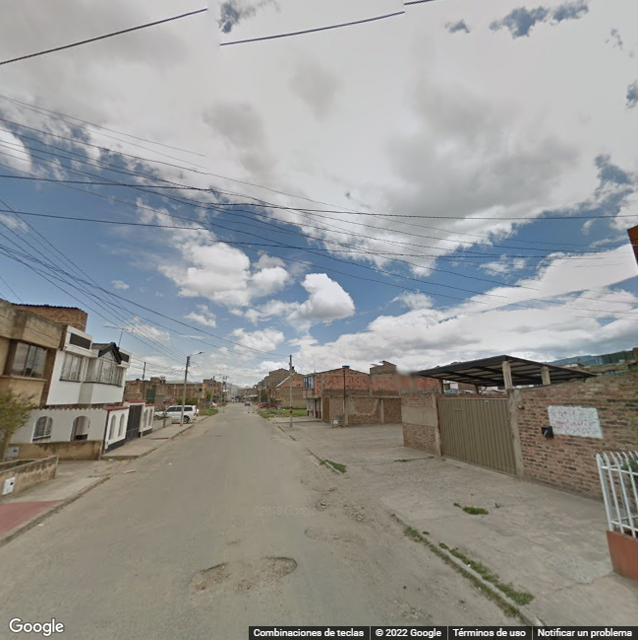D40: (256, 552, 302, 588), (189, 559, 233, 592)
